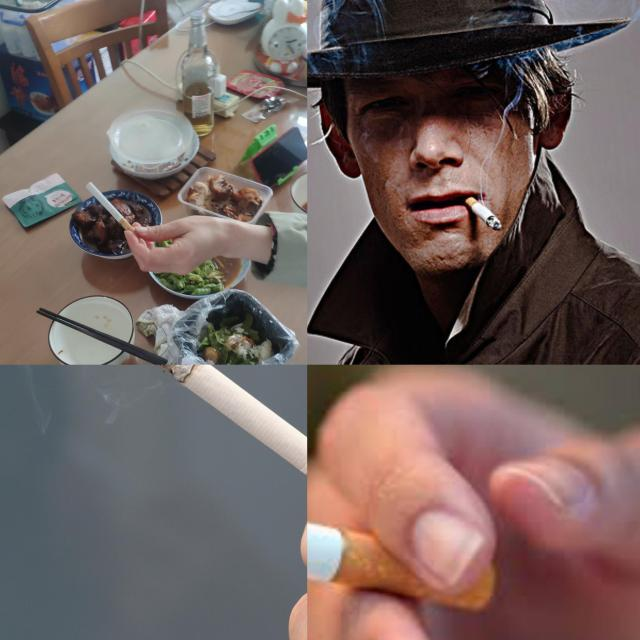smoking: (140, 365, 307, 551), (307, 484, 497, 614), (85, 181, 141, 237), (453, 185, 508, 236)
